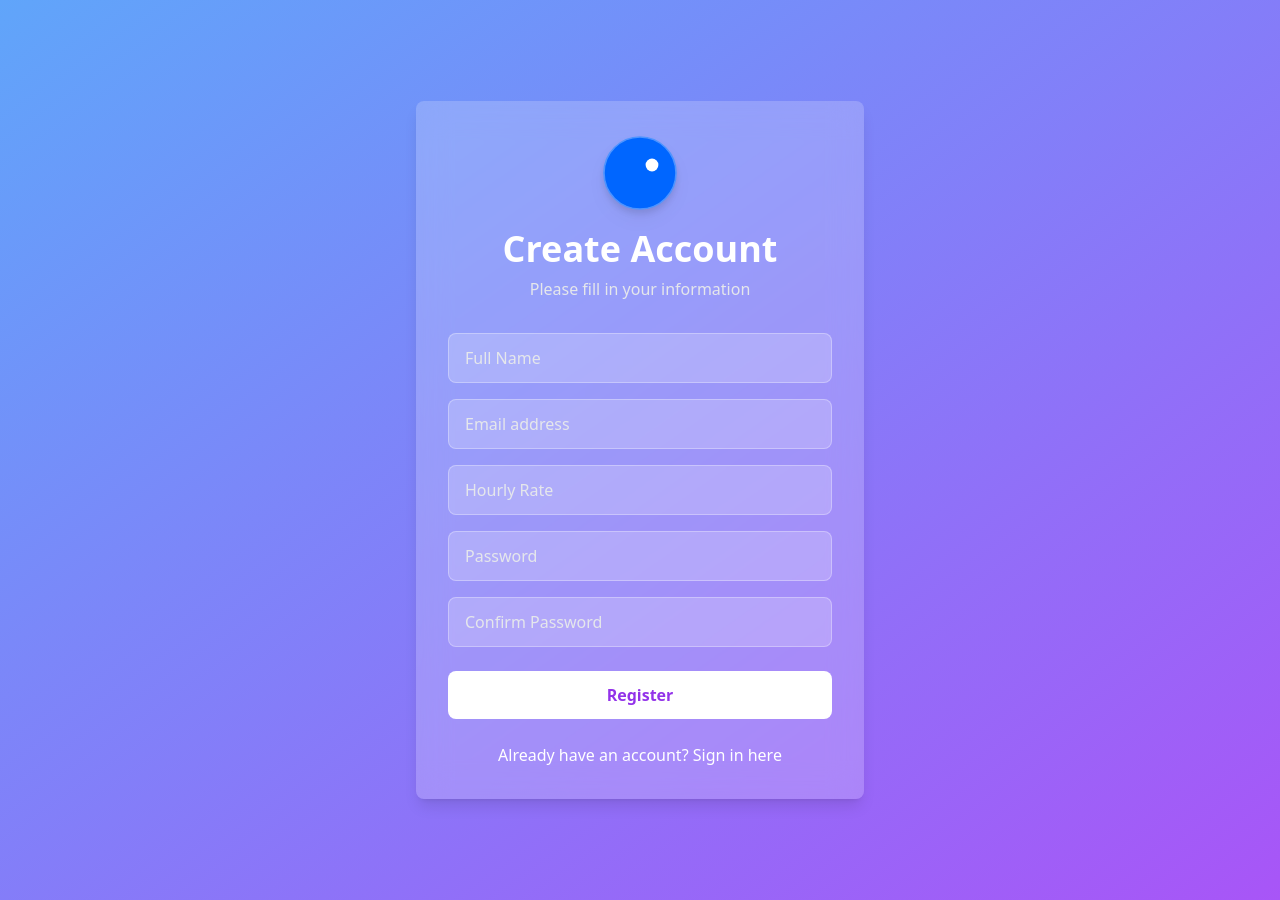
it: Register Component › handles registration with existing email
The width and height of the screenshot is (1280, 900).
Note: Fill in the form with existing email
In the field with placeholder "Full Name": (640,358) [448,333,832,383], type "Test User"
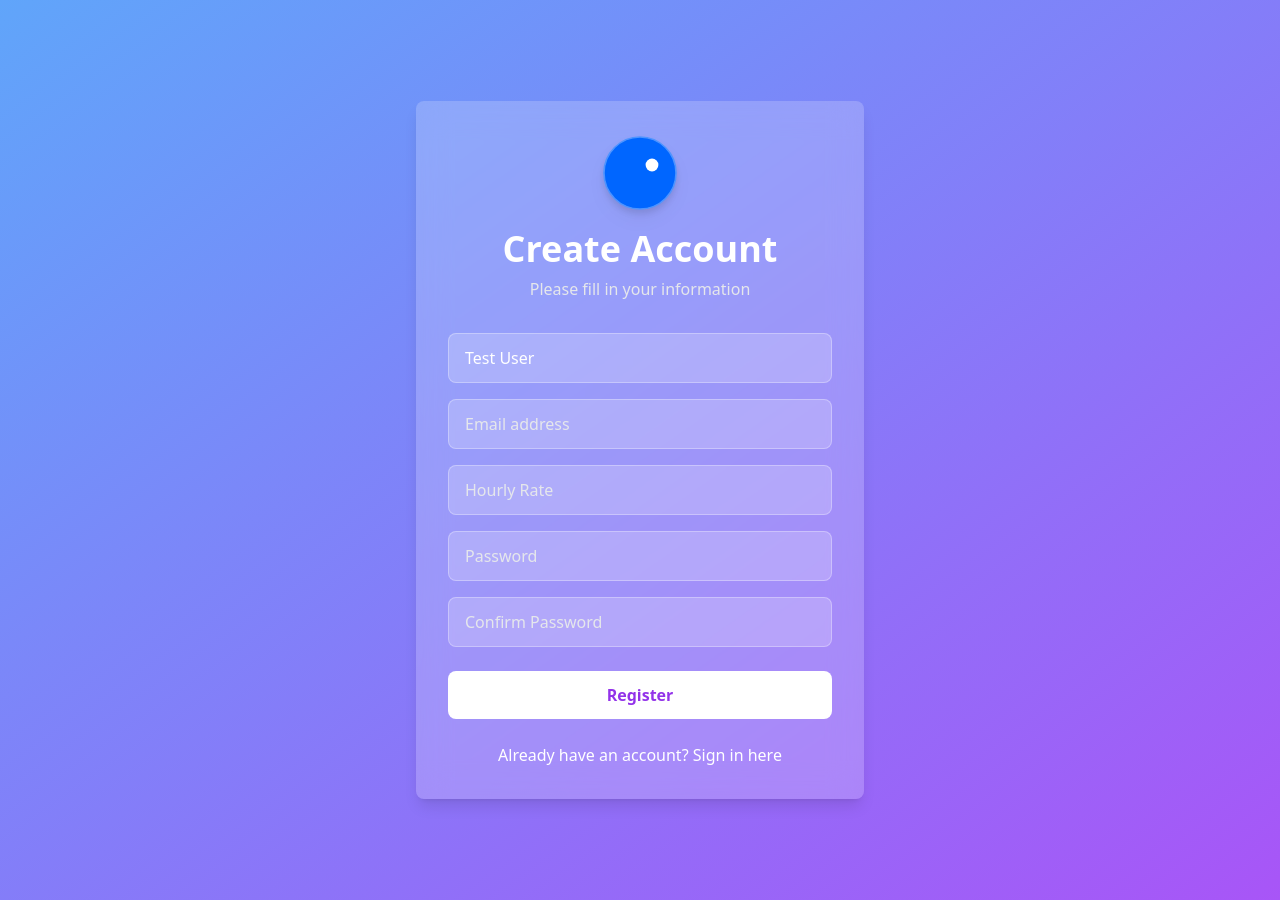
In the field with placeholder "Email address": (640,424) [448,399,832,449], type "existing@example.com"
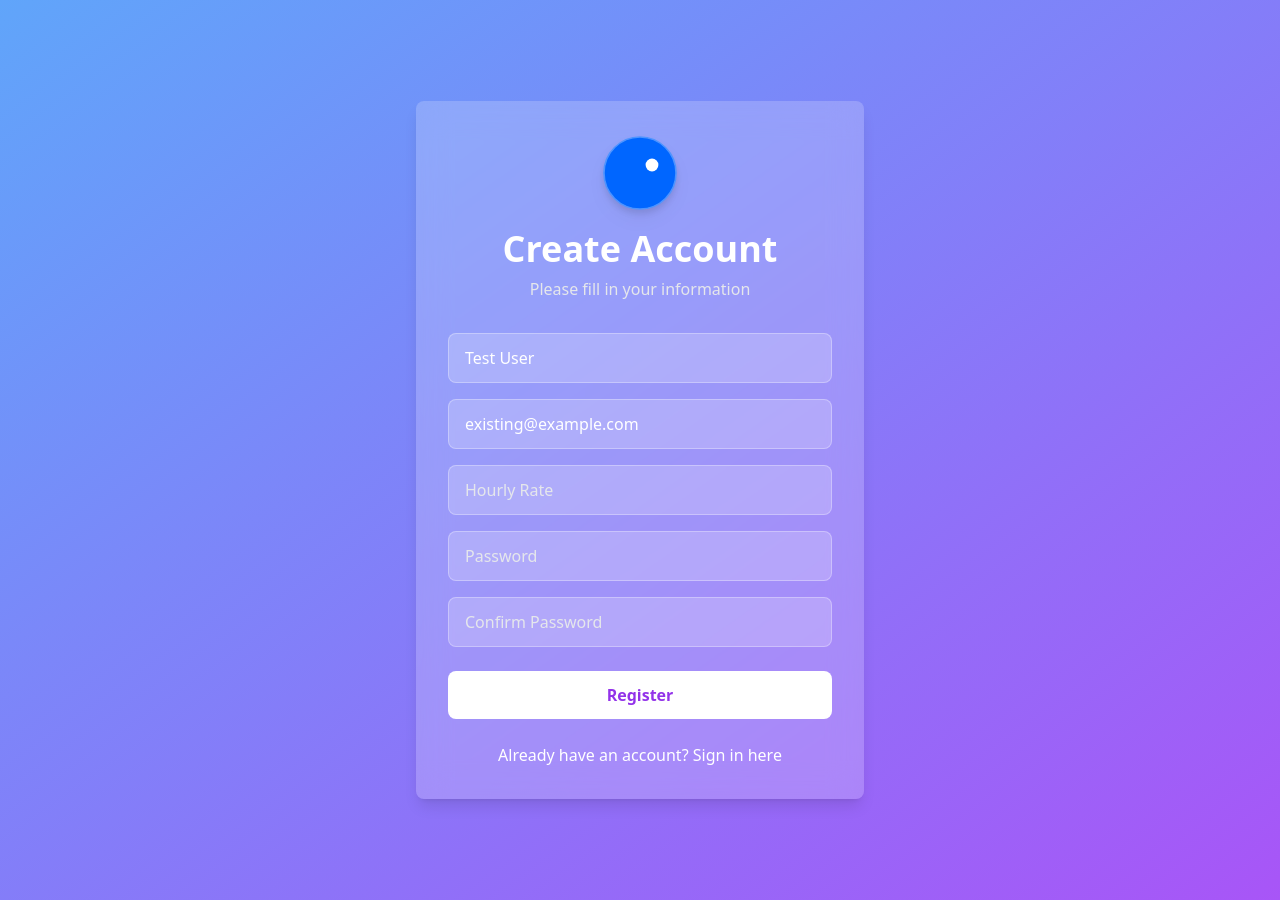
In the number field with placeholder "Hourly Rate": (640,490) [448,465,832,515], type "25"
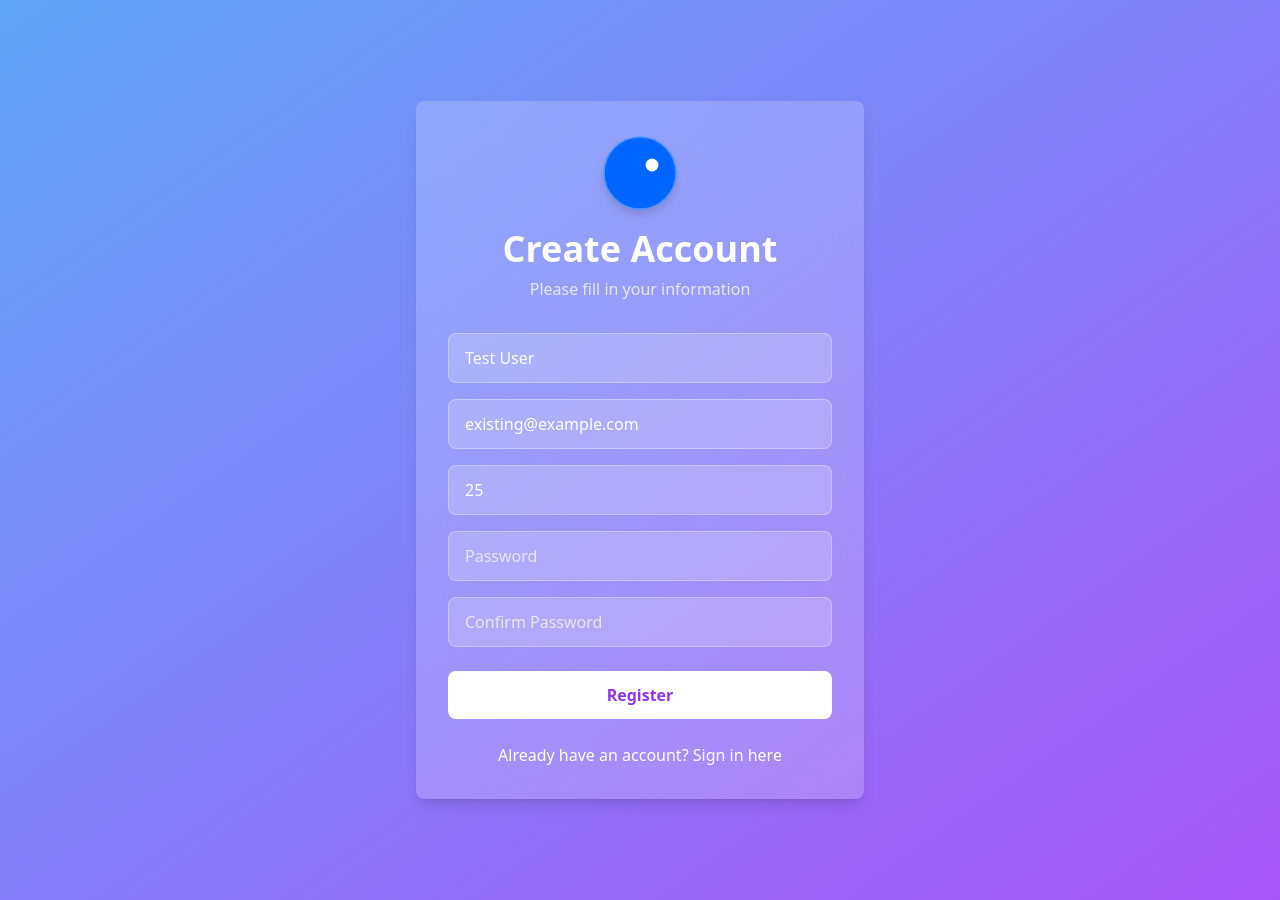
In the password field with placeholder "Password": (640,556) [448,531,832,581], type "password123"
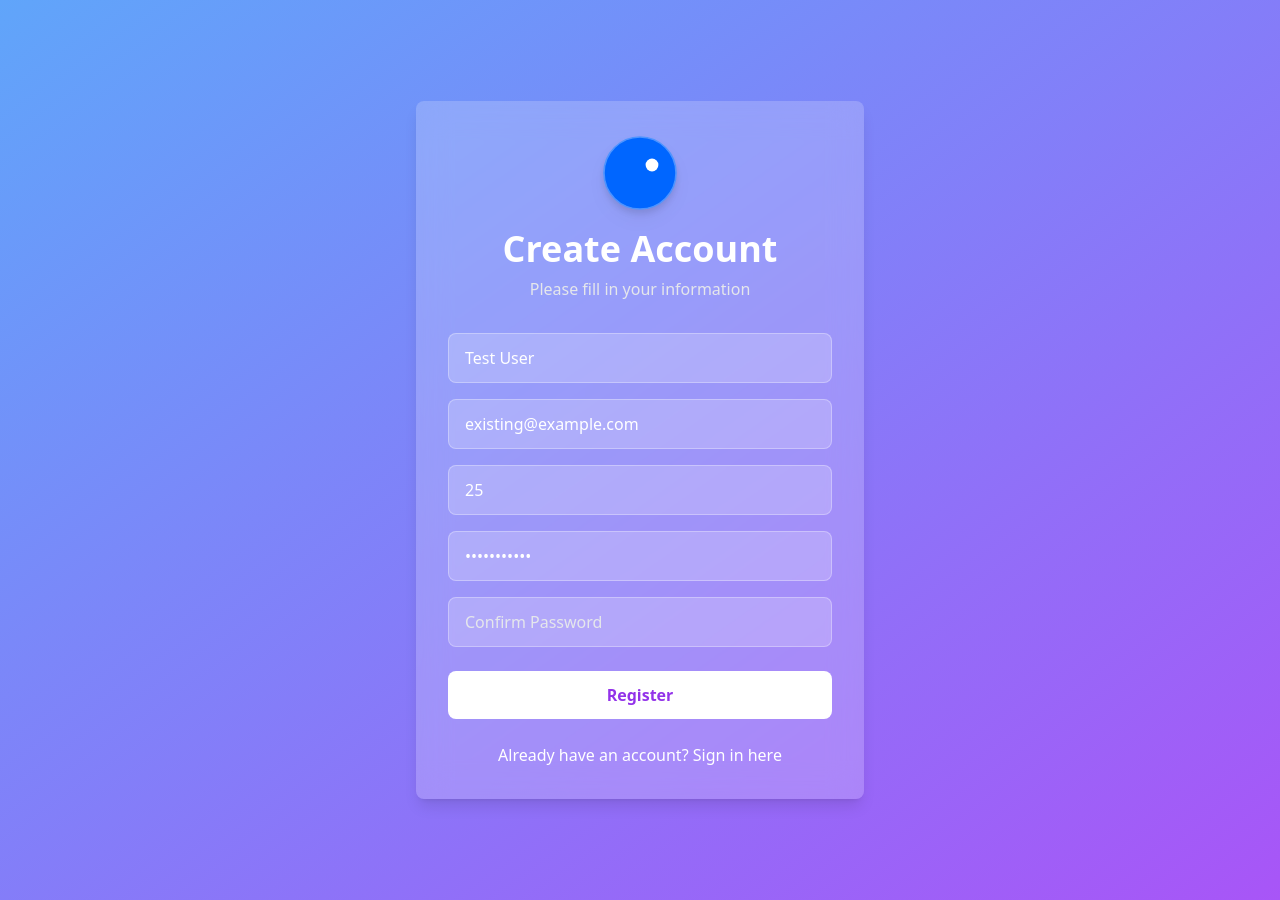
In the password field with placeholder "Confirm Password": (640,622) [448,597,832,647], type "password123"
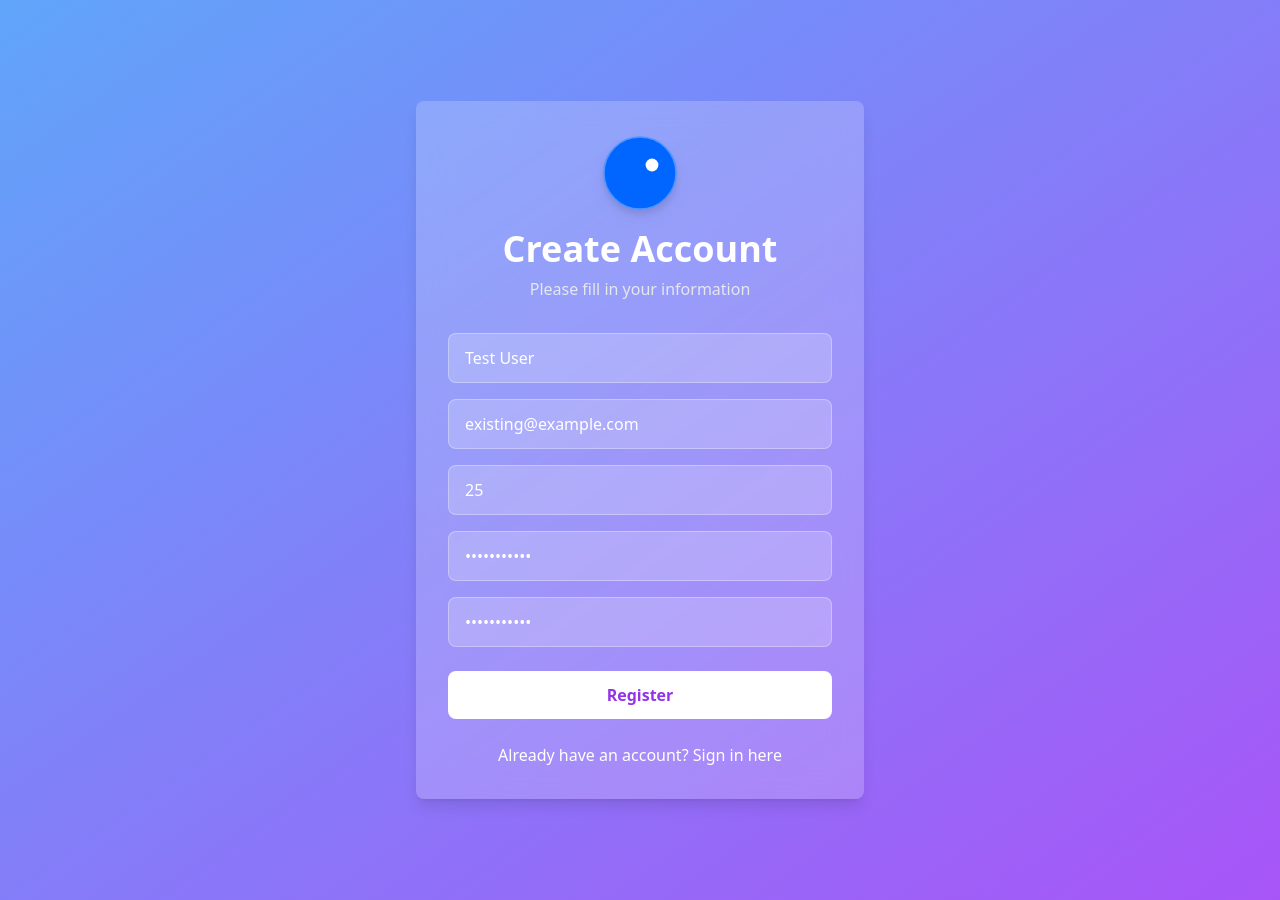
Note: Submit the form
Click the button "Register": (640,695) [448,671,832,719]
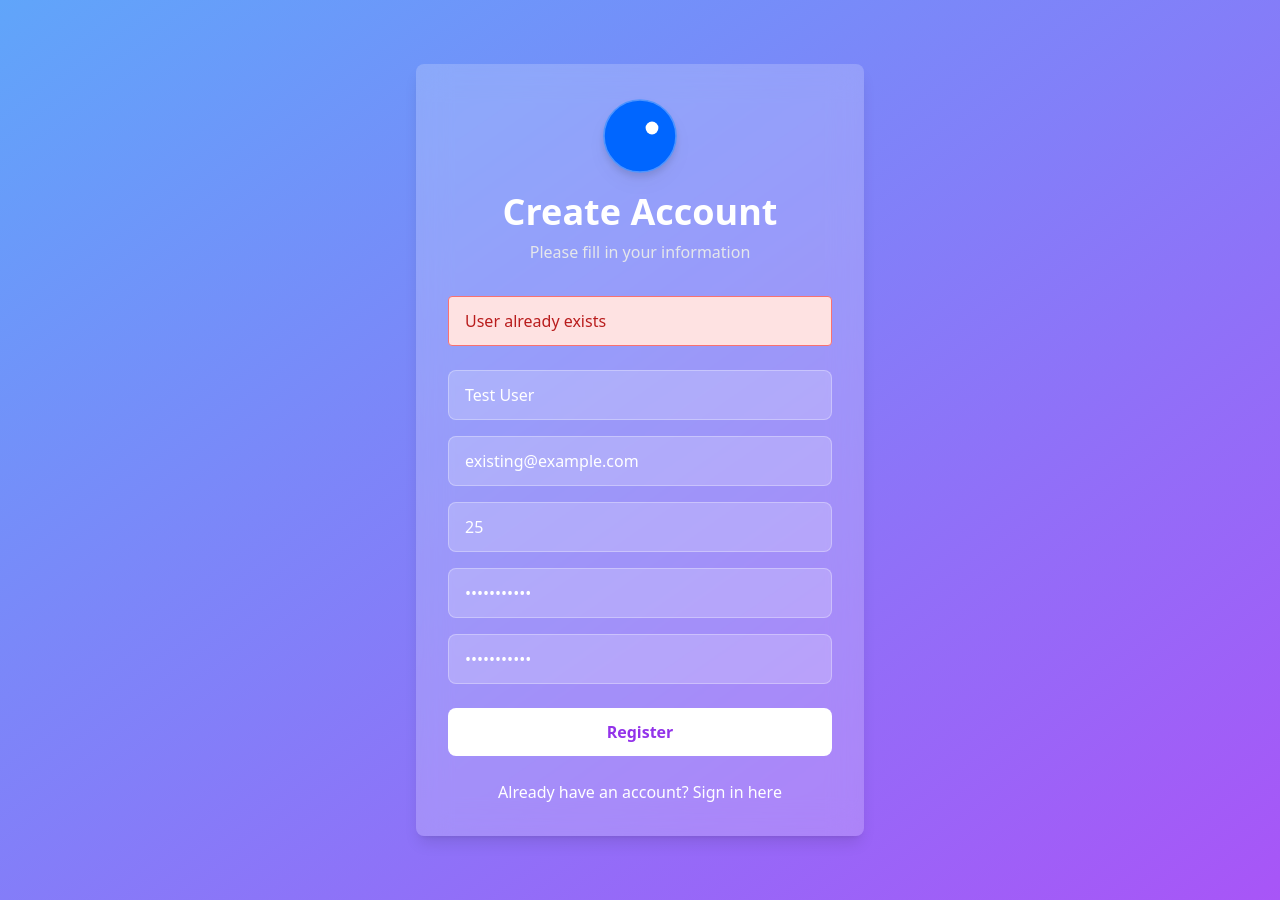
Expected: the message "User already exists" is shown, [448,296,832,346]
Expected: the text "User already exists" is shown, [465,310,606,332]
